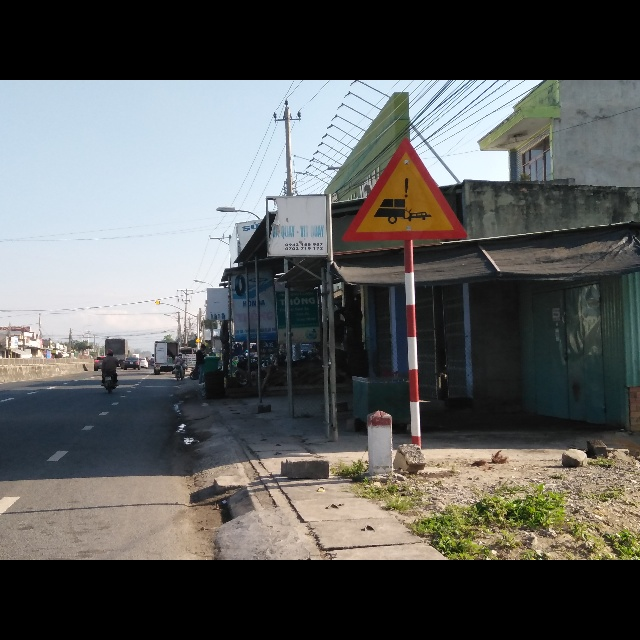Đoạn đường hay xảy ra tai nạn: (343, 137, 468, 240)
